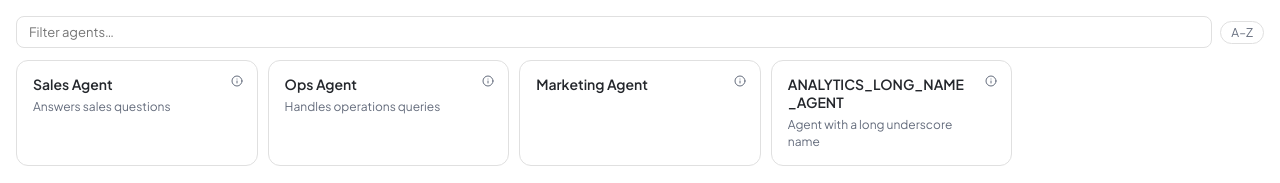
Scenario: AgentsView › shows an inline error when the details fetch fails
Click the 2nd button with class "agent-card-info": [488, 81] box 476,69 -> 500,93
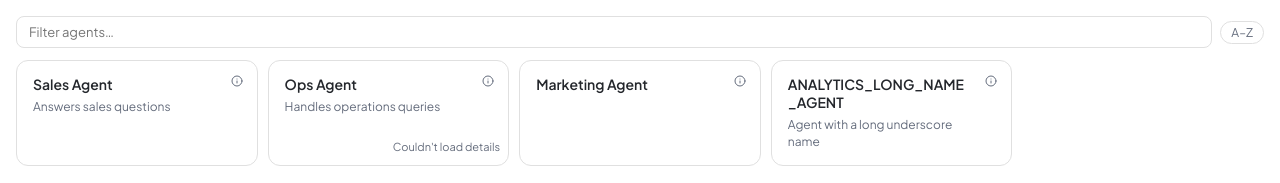
Result: the text "Couldn't load details" is shown at 393,138 -> 500,157
